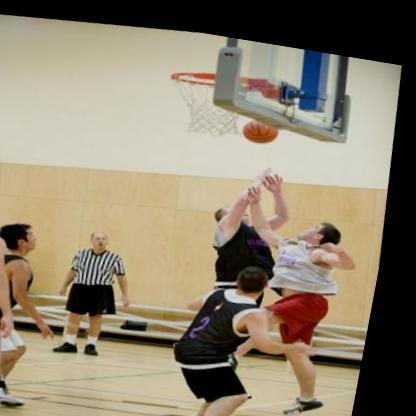basketball: (241, 105, 285, 139)
rim: (171, 59, 264, 91)
